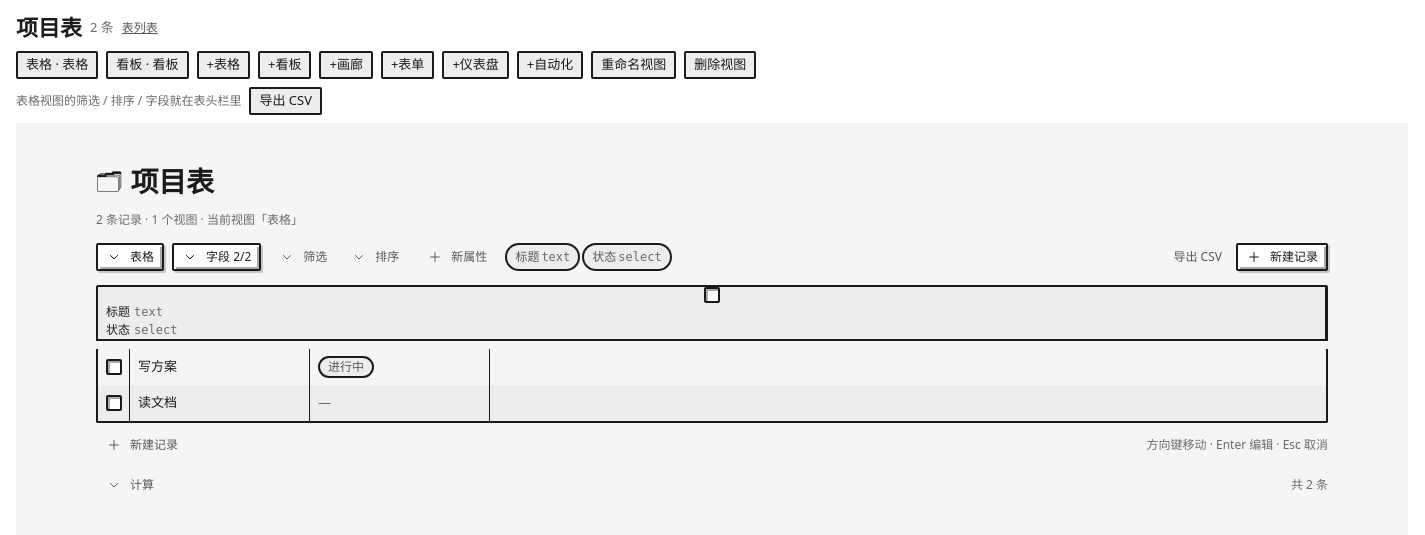
Test: T103-01 删除视图（假按钮补成真实入口 + 二次确认 + 护栏） › 二次点击才真删：viewRemove 带当前 vid；换视图解除上膛；删完按护栏禁用
The image size is (1425, 535).
Expected: the element with test id "bitable-viewbar" is shown, x1=16 y1=51 x2=756 y2=79
Click the button with test id "bitable-view-remove".
click(720, 65)  # box x1=684 y1=51 x2=756 y2=79
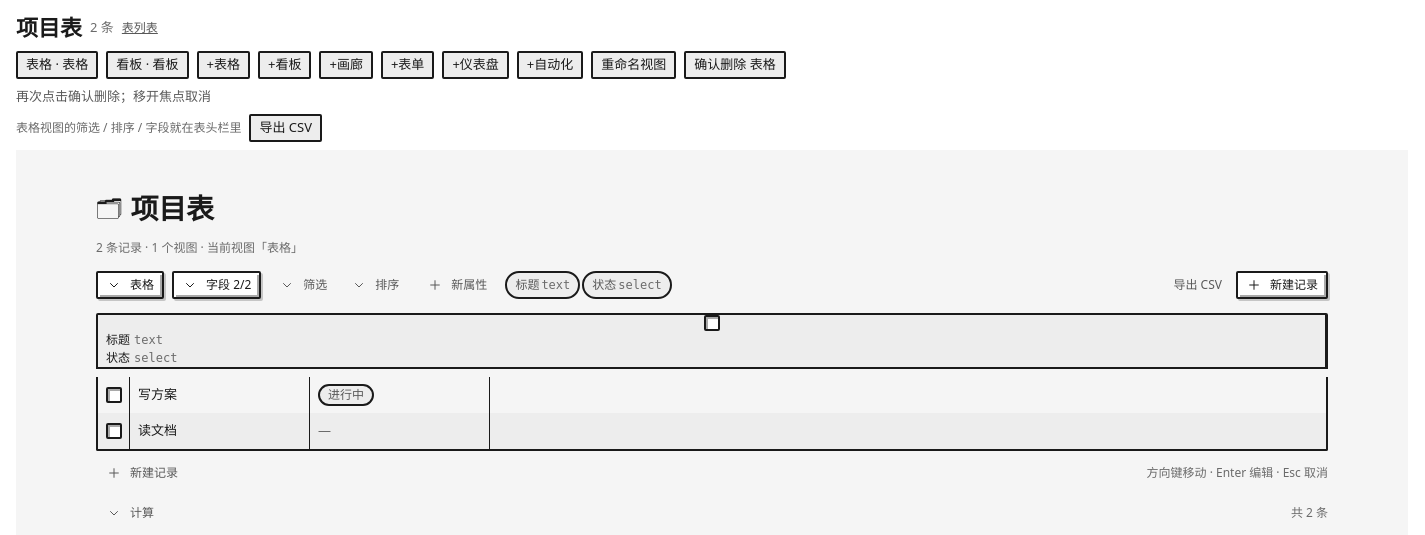
Now the button with test id "bitable-view-remove" shows "确认删除", box x1=684 y1=51 x2=786 y2=79
中途点另一个视图 chip → 上膛态作废（不能上膛着表格却删看板）
Click the button with test id "bitable-view-chip-v2".
click(147, 65)  # box x1=106 y1=51 x2=189 y2=79
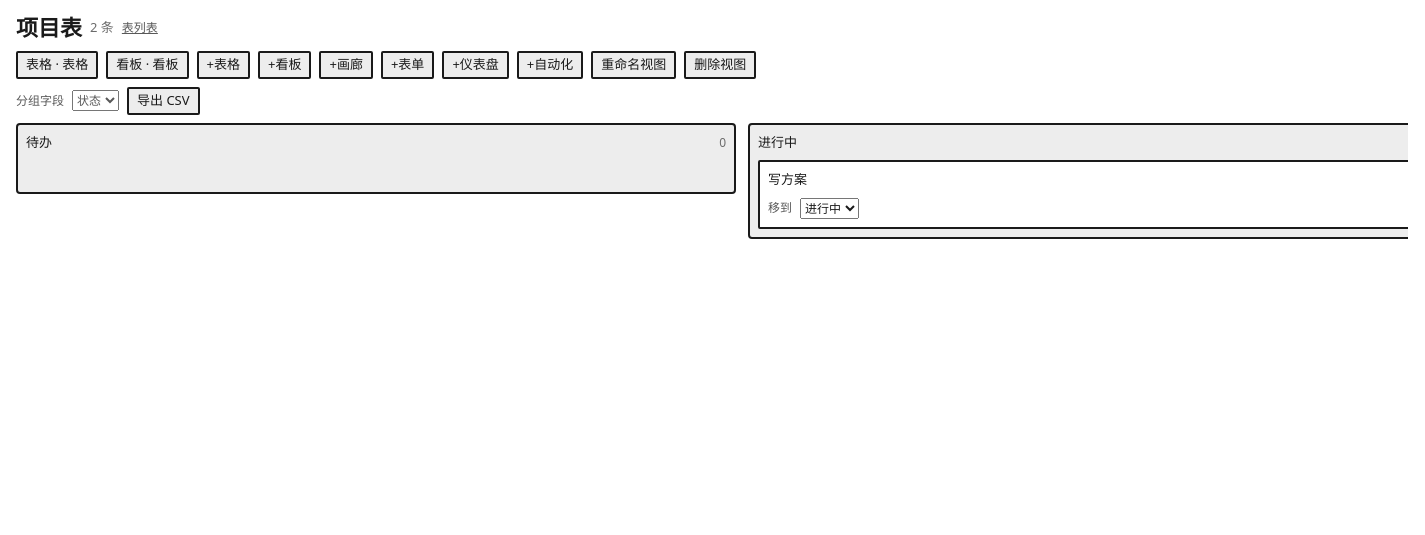
Now the button with test id "bitable-view-remove" no longer shows "确认删除"
换视图后重新上膛：第一次只武装、不删
Click the button with test id "bitable-view-remove".
click(720, 65)  # box x1=684 y1=51 x2=756 y2=79
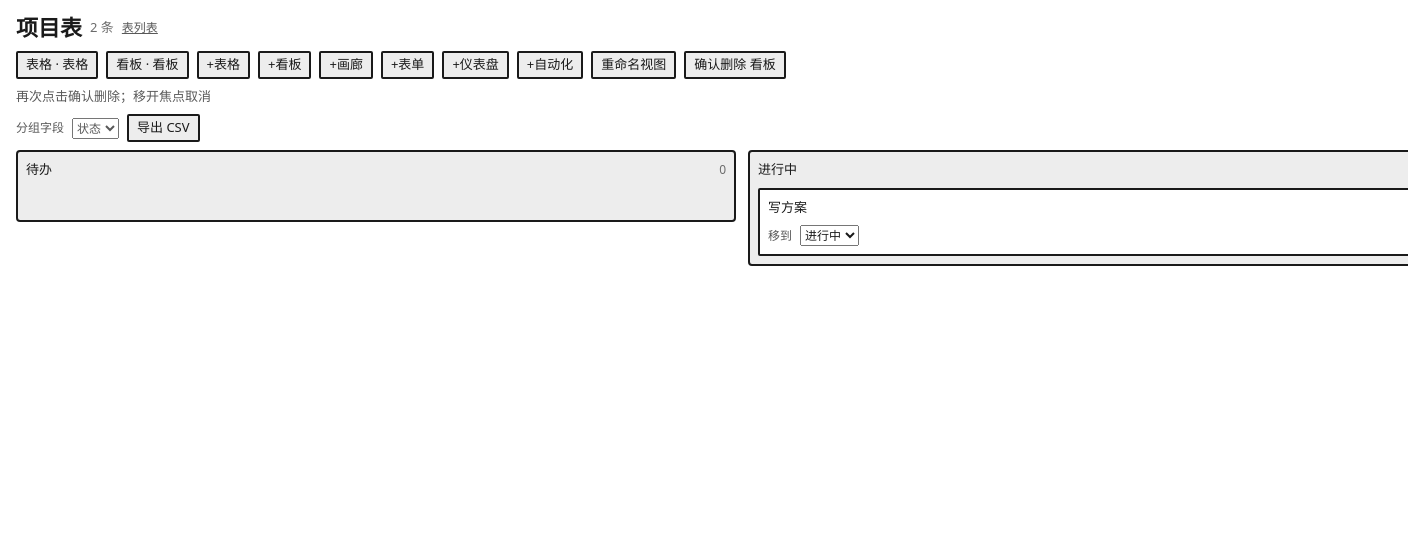
Now the button with test id "bitable-view-remove" shows "确认删除"
第二次确认：删的必须是**当前**视图（看板 v2，不是最初上膛的表格 v1）
Click the button with test id "bitable-view-remove".
click(735, 65)  # box x1=684 y1=51 x2=786 y2=79
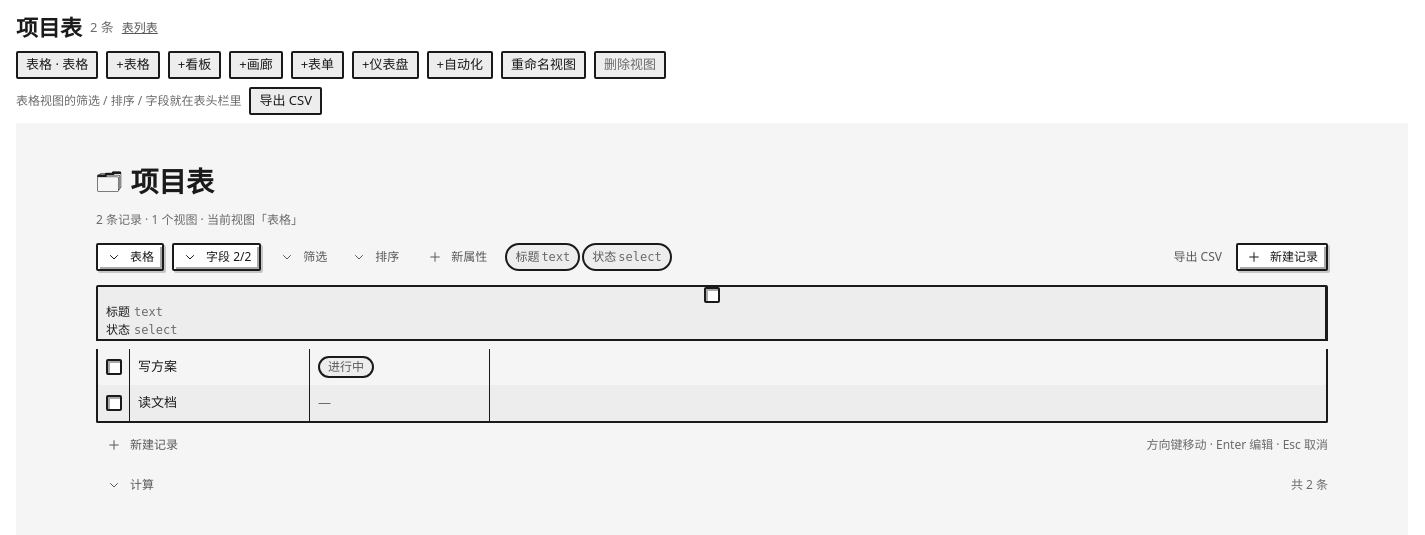
Now the button with test id "bitable-view-remove" is disabled, box x1=594 y1=51 x2=666 y2=79
Now the button with test id "bitable-view-remove" no longer shows "确认删除"
Now the message with test id "bitable-view-msg" is gone
